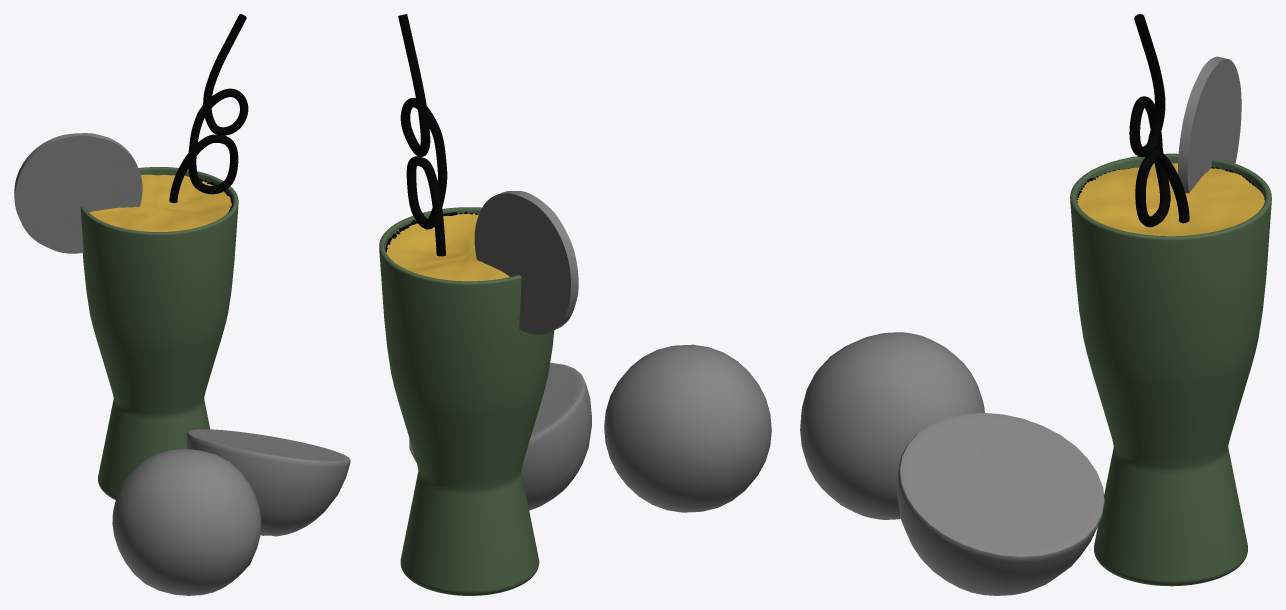
The model's file is jus_orange.FBX.
The picture shows the model from 3 angles, left to right: view 1: azimuth 30°, elevation 25°; view 2: azimuth 150°, elevation 25°; view 3: azimuth 270°, elevation 25°; orthographic projection. The views are drawn at different scales.
Visible parts, largest first — view 1: Line001, archmodels76_040_01, Circle001, archmodels76_040_06, Line002, Line003; view 2: Line001, archmodels76_040_01, Circle001, archmodels76_040_06, Line002, Line003; view 3: Line001, archmodels76_040_06, archmodels76_040_01, Line002, Circle001, Line003.
Boxes of the visible parts, <box> form: Line001: <box>80,167,238,499</box>; archmodels76_040_01: <box>112,449,261,595</box>; Circle001: <box>14,133,142,253</box>; archmodels76_040_06: <box>185,429,350,536</box>; Line002: <box>89,174,231,231</box>; Line003: <box>169,14,248,203</box>; Line001: <box>379,207,554,595</box>; archmodels76_040_01: <box>604,344,771,512</box>; Circle001: <box>474,191,578,334</box>; archmodels76_040_06: <box>409,363,591,510</box>; Line002: <box>386,213,509,281</box>; Line003: <box>398,14,447,256</box>; Line001: <box>1070,153,1271,586</box>; archmodels76_040_06: <box>896,413,1104,595</box>; archmodels76_040_01: <box>800,332,984,519</box>; Line002: <box>1077,163,1264,236</box>; Circle001: <box>1177,56,1241,193</box>; Line003: <box>1129,14,1189,227</box>.
Bounding box in the file's own units: 6.92 × 12.01 × 8.7.
